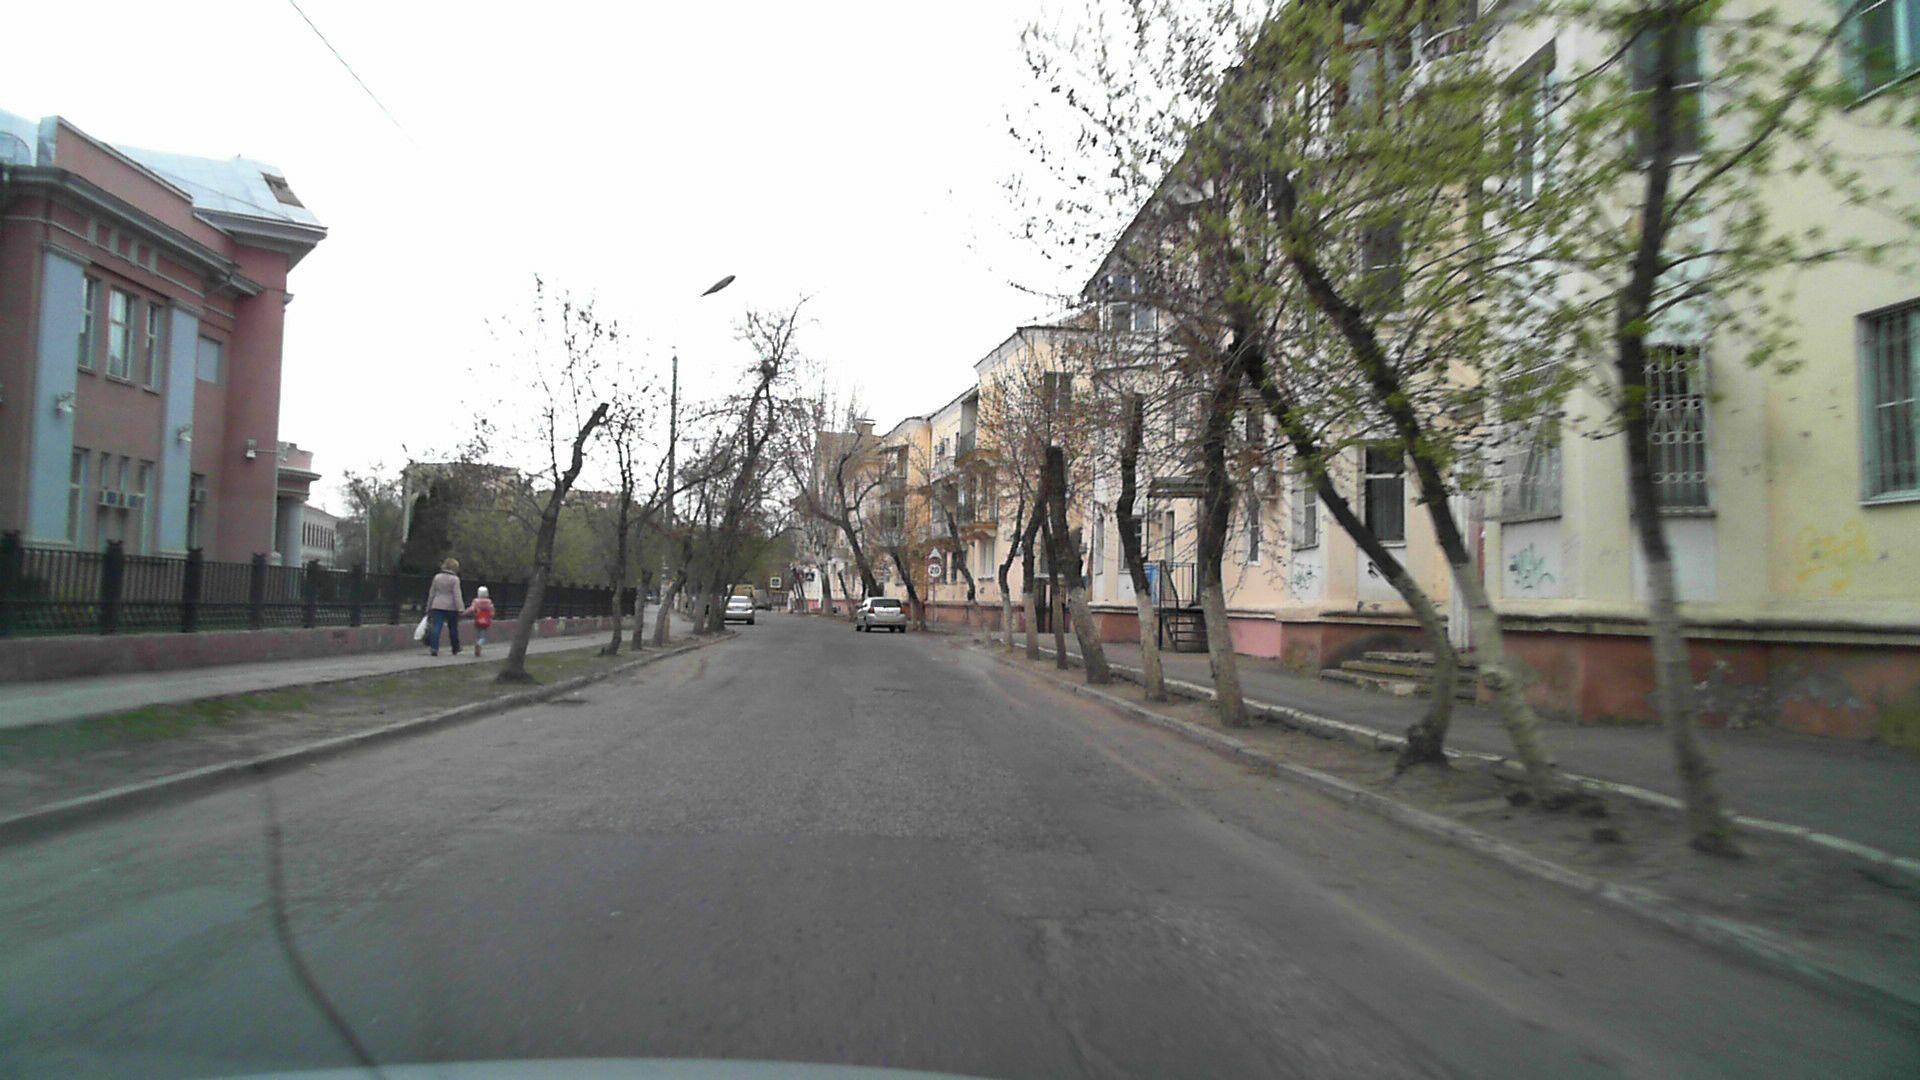1_17: (927, 543, 943, 563)
1_23: (873, 558, 891, 574)
3_24: (927, 563, 943, 578)
5_19_1: (771, 578, 781, 587)
5_20: (804, 571, 816, 582)
8_2_1: (874, 575, 891, 583)
